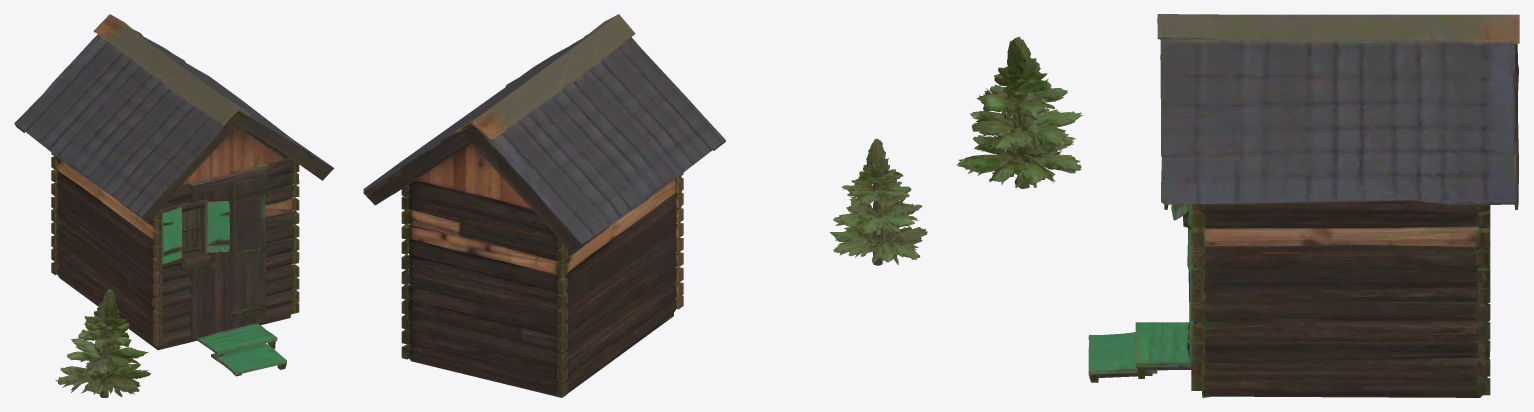
The model's file is garden_shed.glb.
3 views of the same model, side by side, from view 1: azimuth 30°, elevation 25°; view 2: azimuth 150°, elevation 25°; view 3: azimuth 270°, elevation 25° (orthographic). The views are drawn at different scales.
Bounding box in the file's own units: 1.76 × 1.31 × 1.89.
1 material, 1 textured.
